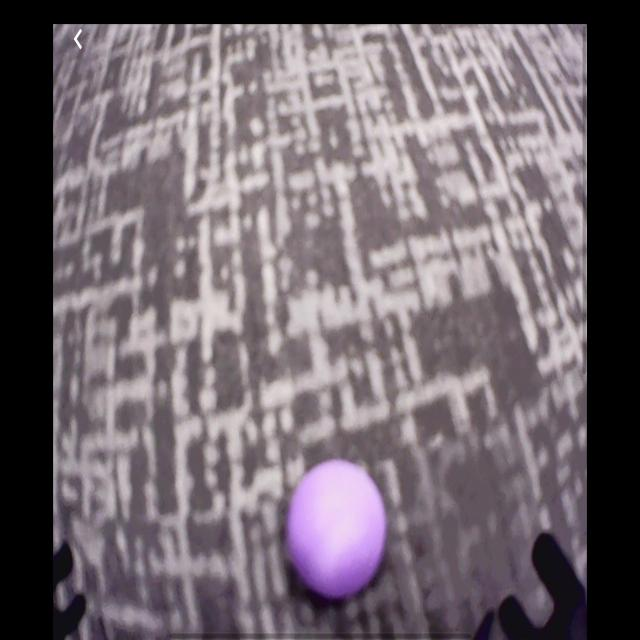ball: (284, 460, 389, 603)
